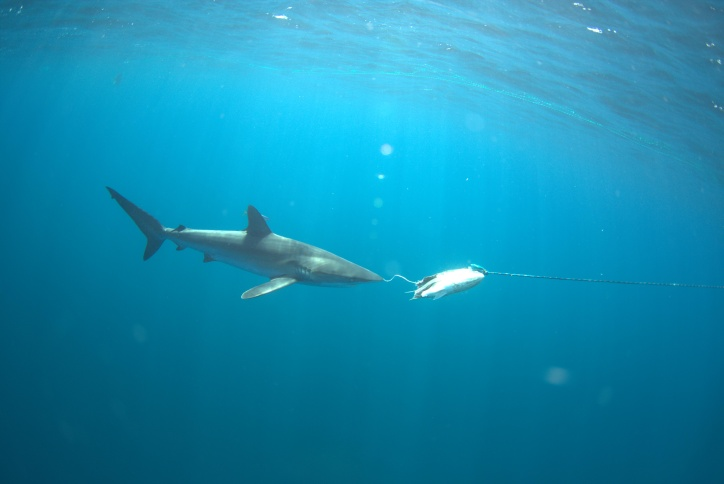Sedoso: (68, 180, 390, 317)
